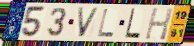3: (46, 7, 69, 37)
5: (19, 5, 49, 39)
H: (143, 7, 175, 41)
L: (123, 7, 142, 40), (96, 8, 116, 38)
V: (76, 6, 101, 38)
